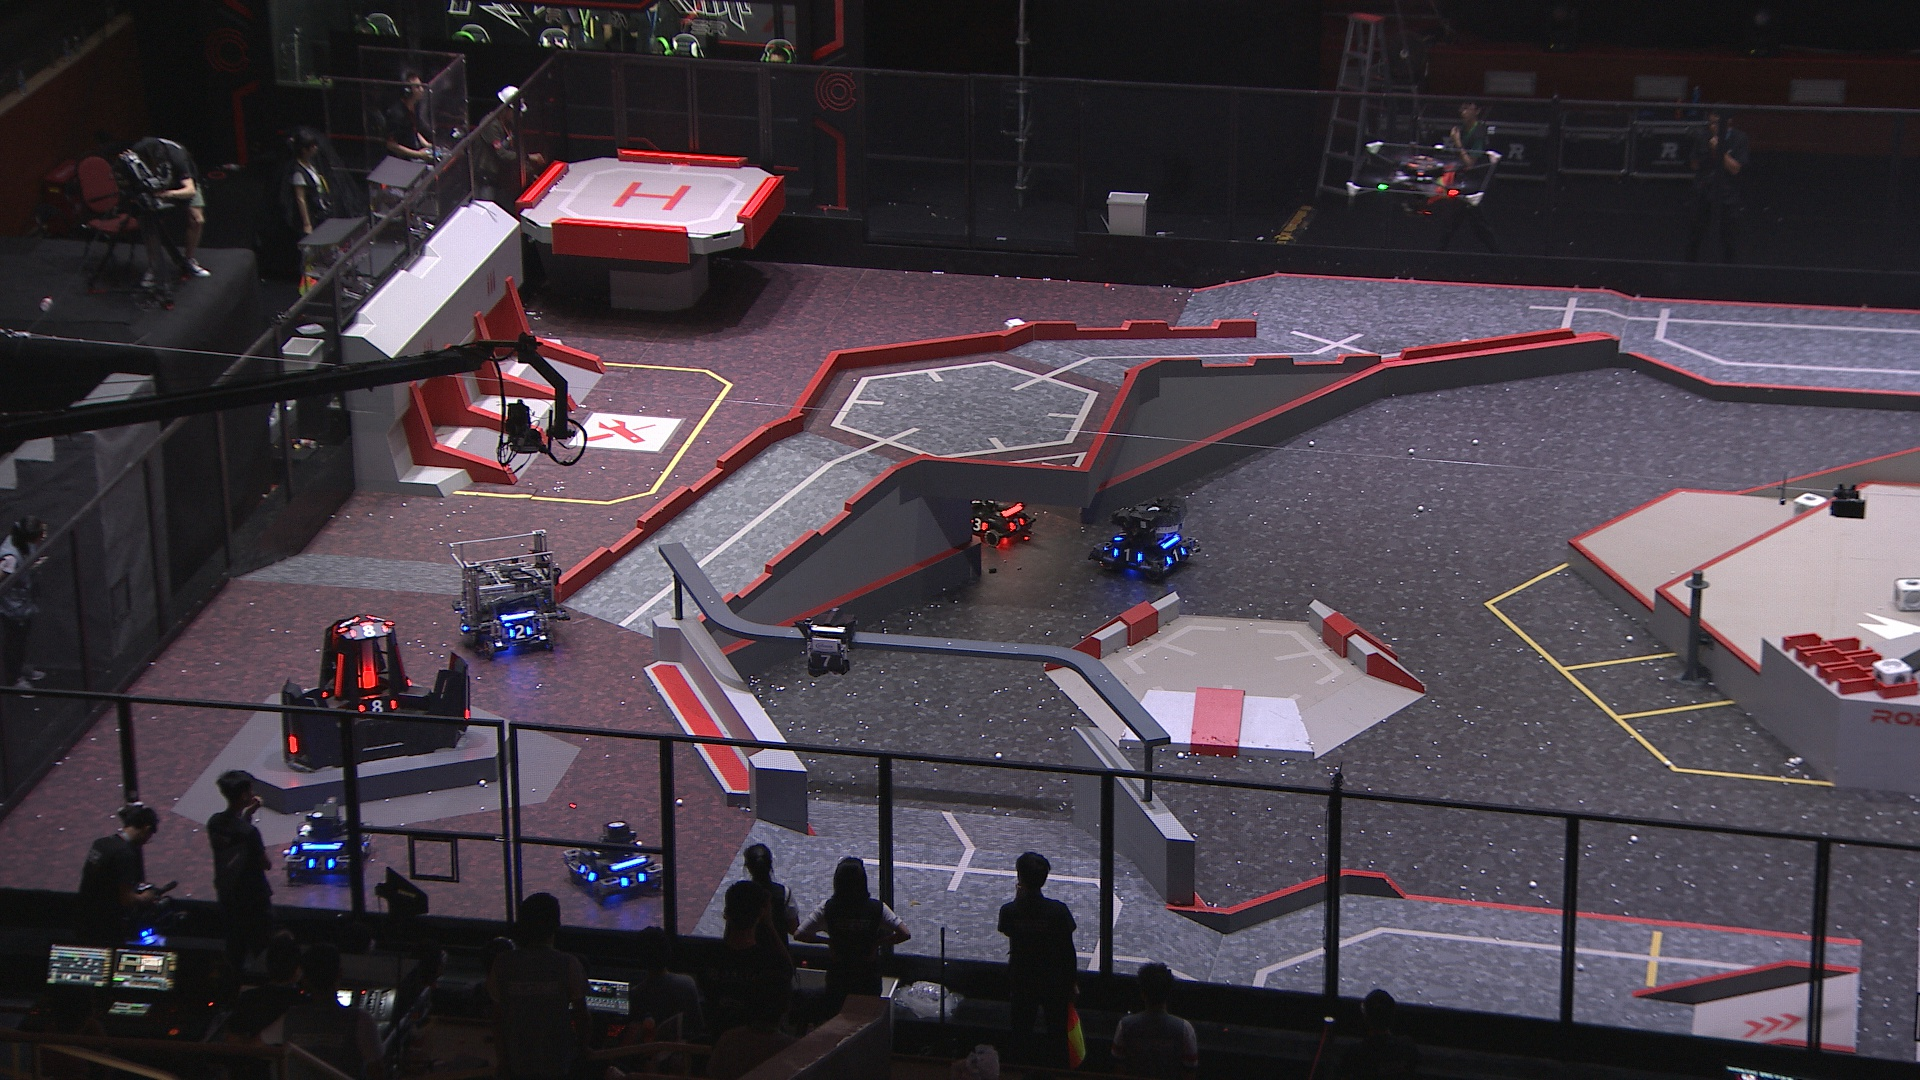armor: (347, 624, 389, 644), (357, 699, 400, 717), (357, 661, 378, 694), (306, 856, 338, 876), (618, 870, 647, 891), (334, 654, 347, 700), (1112, 546, 1145, 564), (506, 622, 534, 642), (811, 651, 841, 669), (576, 861, 596, 884), (1164, 547, 1187, 567), (286, 732, 302, 757), (1005, 514, 1026, 531), (969, 517, 989, 534), (455, 618, 471, 638), (1112, 529, 1127, 543), (462, 709, 472, 723)
base: (280, 613, 475, 777)
car: (446, 527, 568, 659), (1087, 498, 1200, 585), (562, 822, 670, 907), (278, 799, 373, 885), (949, 485, 1035, 547)
watcher: (798, 612, 858, 680)
